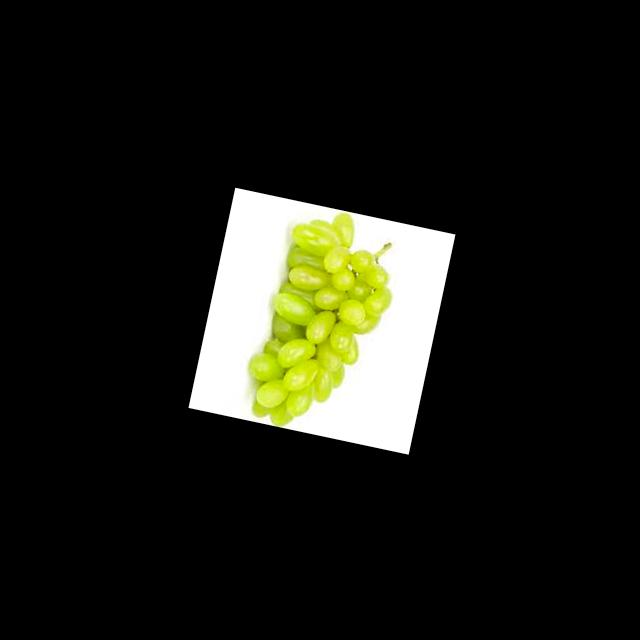grape: (235, 199, 408, 444)
